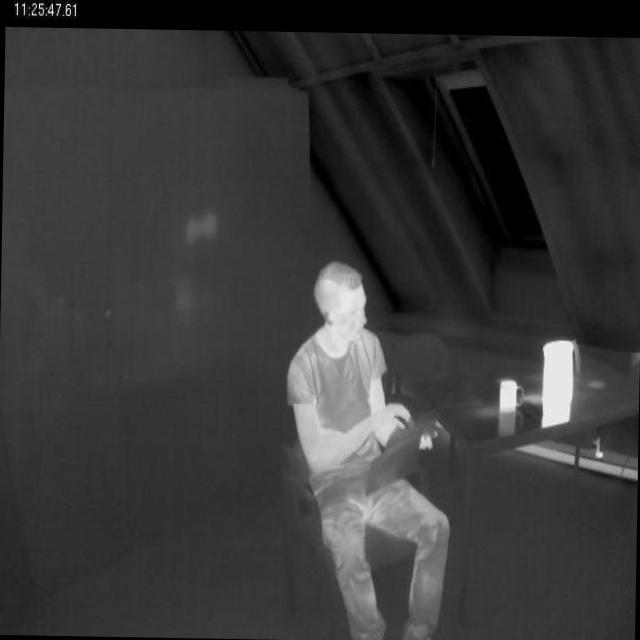person: (281, 258, 459, 640)
